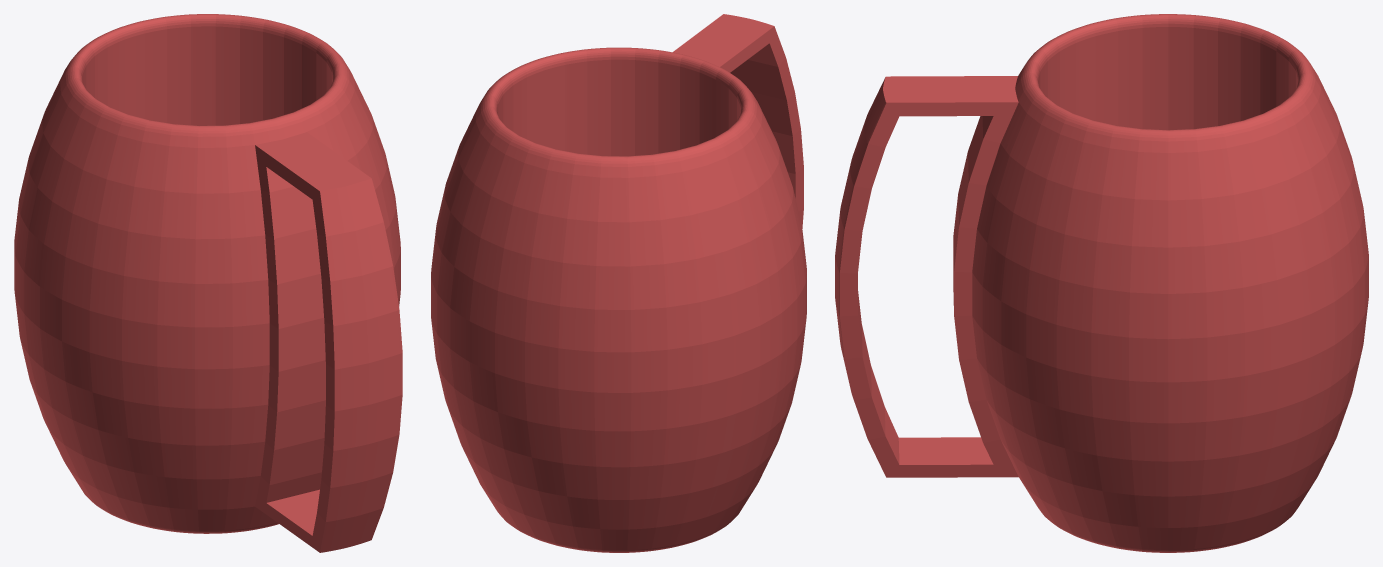
The model's file is RealBarrelCup.glb.
3 views of the same model, side by side, from view 1: azimuth 30°, elevation 25°; view 2: azimuth 150°, elevation 25°; view 3: azimuth 270°, elevation 25° (orthographic). The views are drawn at different scales.
Parts seen in each view (by area): view 1: Cylinder; view 2: Cylinder; view 3: Cylinder.
Boxes of the visible parts, bbox=[...] form: Cylinder: bbox=[14, 14, 402, 552]; Cylinder: bbox=[431, 14, 806, 552]; Cylinder: bbox=[835, 14, 1368, 552].
Bounding box in the file's own units: 3.02 × 3.55 × 4.01.
